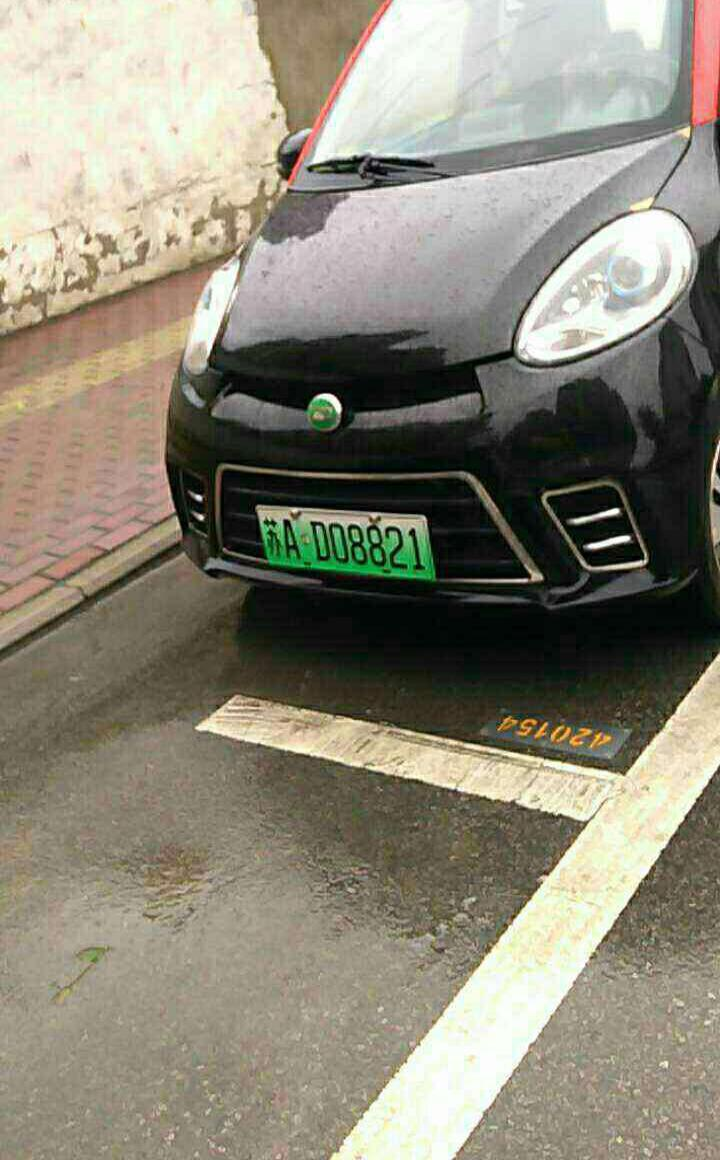car_green: (253, 501, 451, 579)
